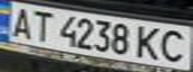2: (72, 16, 96, 51)
3: (90, 18, 115, 54)
4: (54, 14, 78, 47)
8: (112, 20, 136, 56)
A: (6, 4, 36, 38)
C: (154, 27, 193, 64)
K: (133, 24, 163, 61)
T: (24, 8, 57, 43)
